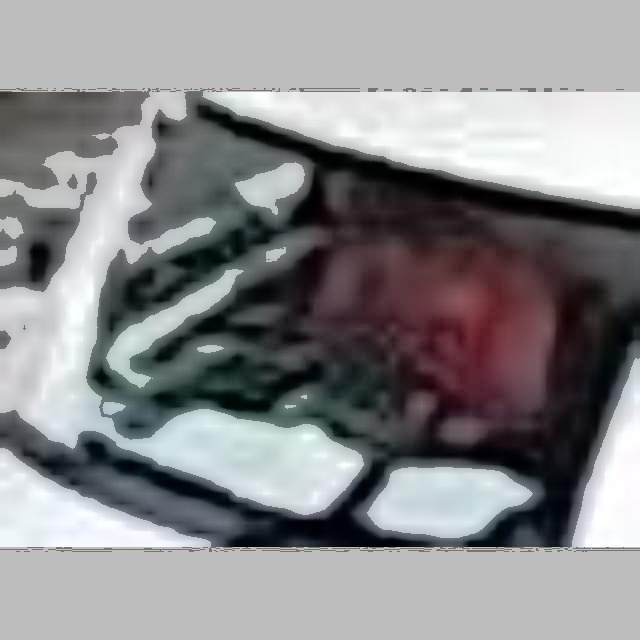tidak-pakai: (252, 170, 562, 422)
